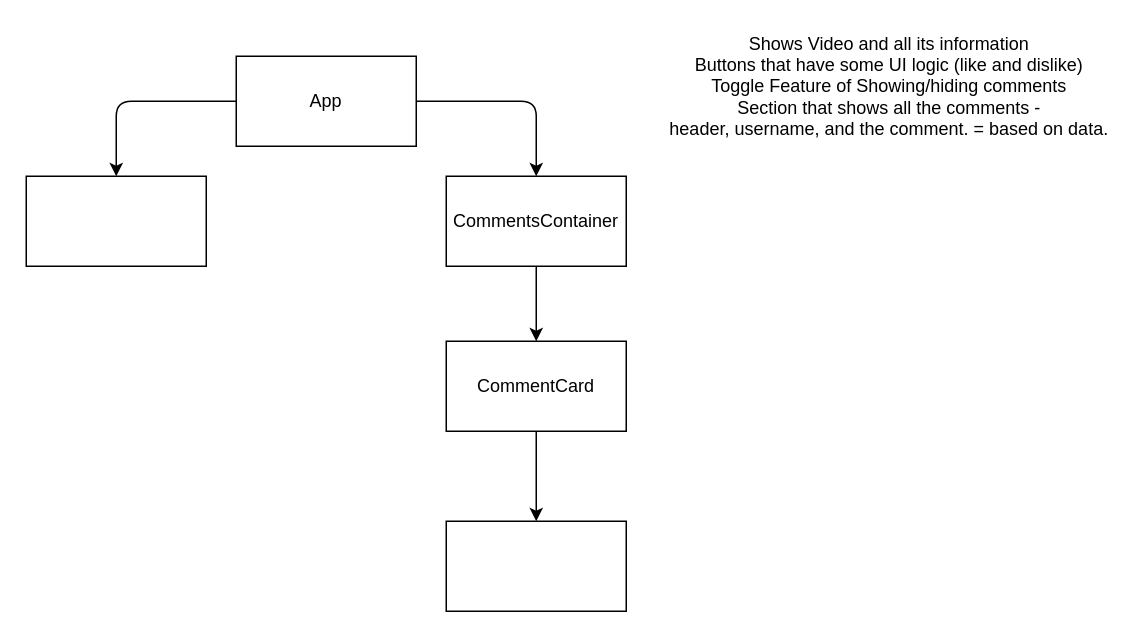
Some shapes in this 1148 by 638 pixel diagram are drawn without their labels. Each missing label, with the centre of its shape:
CommentDetails: the point at 535,565
VideoContainer: the point at 115,220
